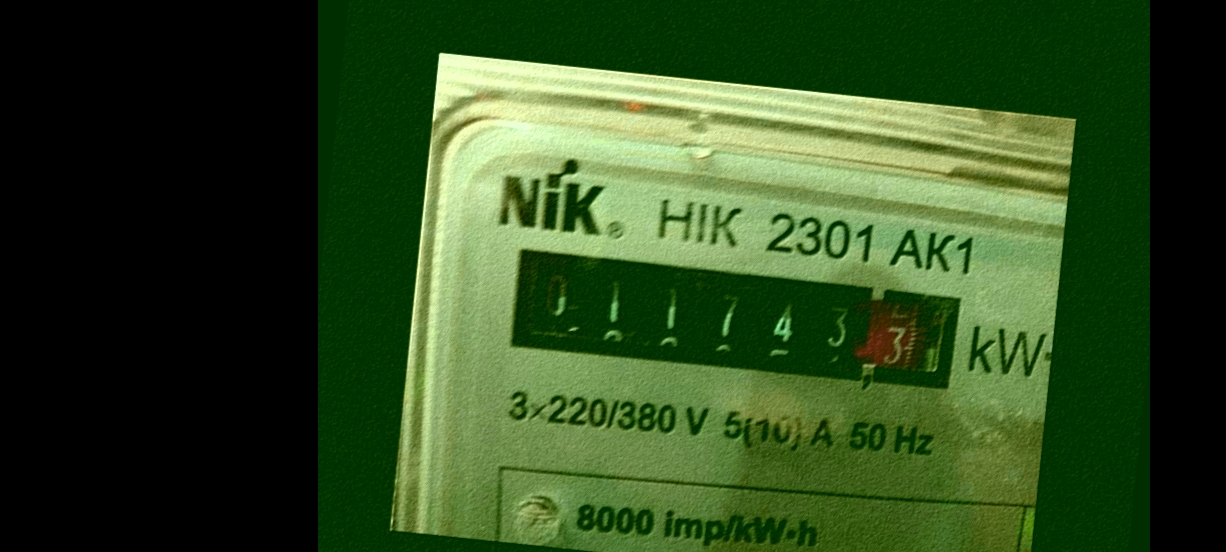0: (541, 270, 574, 320)
1: (660, 283, 686, 333), (605, 278, 627, 327)
3: (823, 302, 856, 352), (881, 322, 910, 369)
4: (769, 296, 802, 346)
7: (715, 291, 744, 341)
screen: (494, 238, 970, 403)
